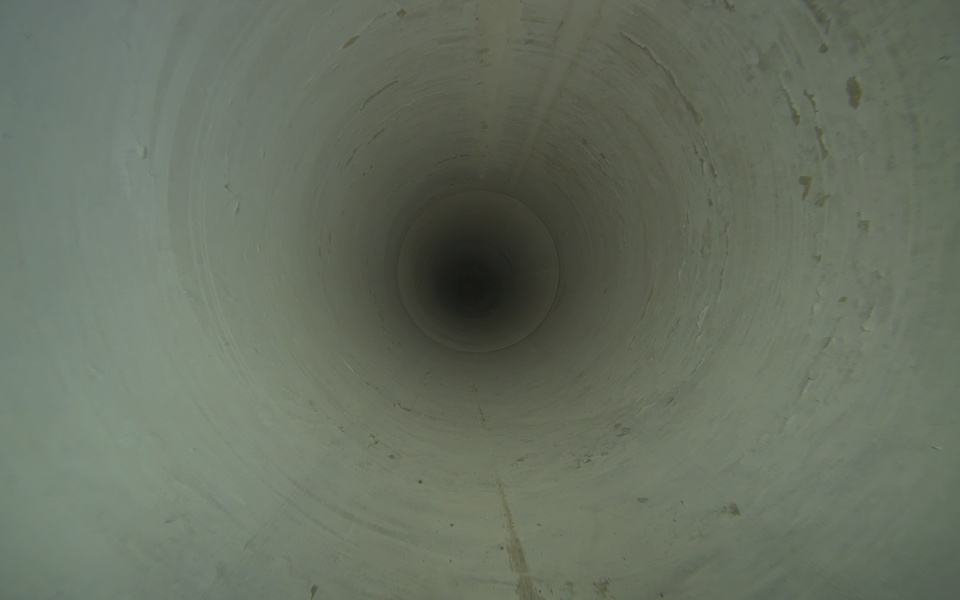circle1: (394, 188, 561, 354)
circle2: (451, 260, 496, 307)
